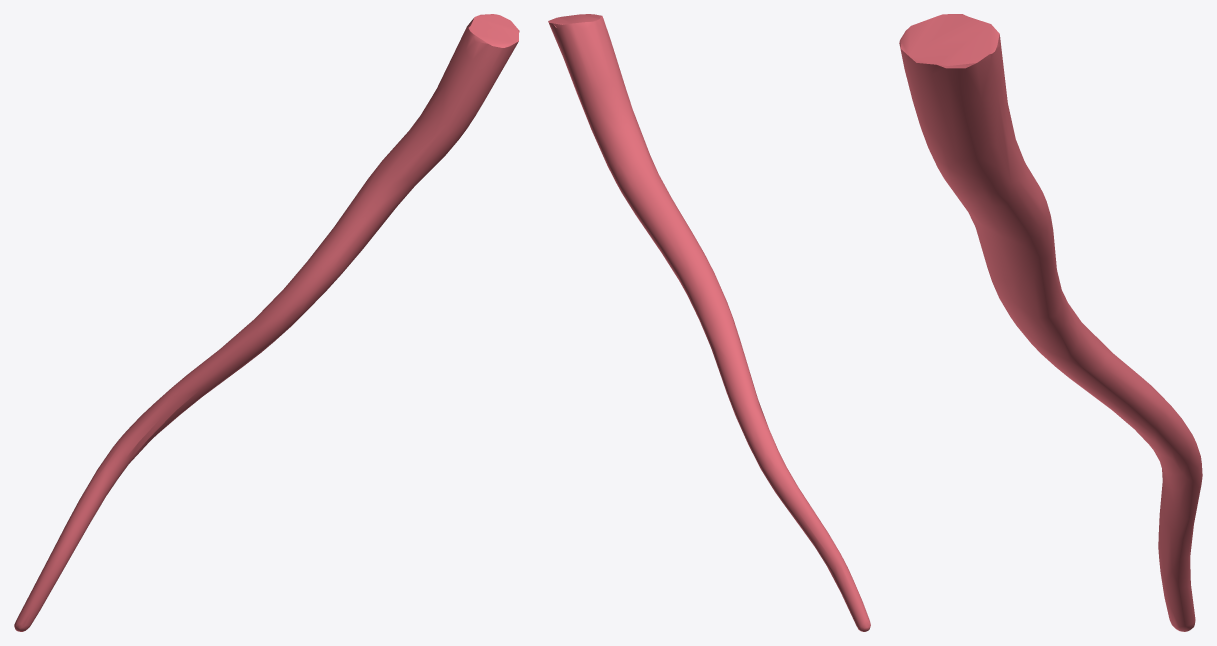
The model's file is fma70486_fj3558.glb.
The picture shows the model from 3 angles, left to right: view 1: azimuth 30°, elevation 25°; view 2: azimuth 150°, elevation 25°; view 3: azimuth 270°, elevation 25°; orthographic projection. The views are drawn at different scales.
Visible parts, largest first — view 1: FMA70486_FJ3558; view 2: FMA70486_FJ3558; view 3: FMA70486_FJ3558.
Boxes of the visible parts, left/top/right/bottom form: FMA70486_FJ3558: left=14, top=14, right=519, bottom=631; FMA70486_FJ3558: left=548, top=14, right=870, bottom=631; FMA70486_FJ3558: left=899, top=14, right=1202, bottom=631.
Bounding box in the file's own units: 0.0287 × 0.0355 × 0.0106.
